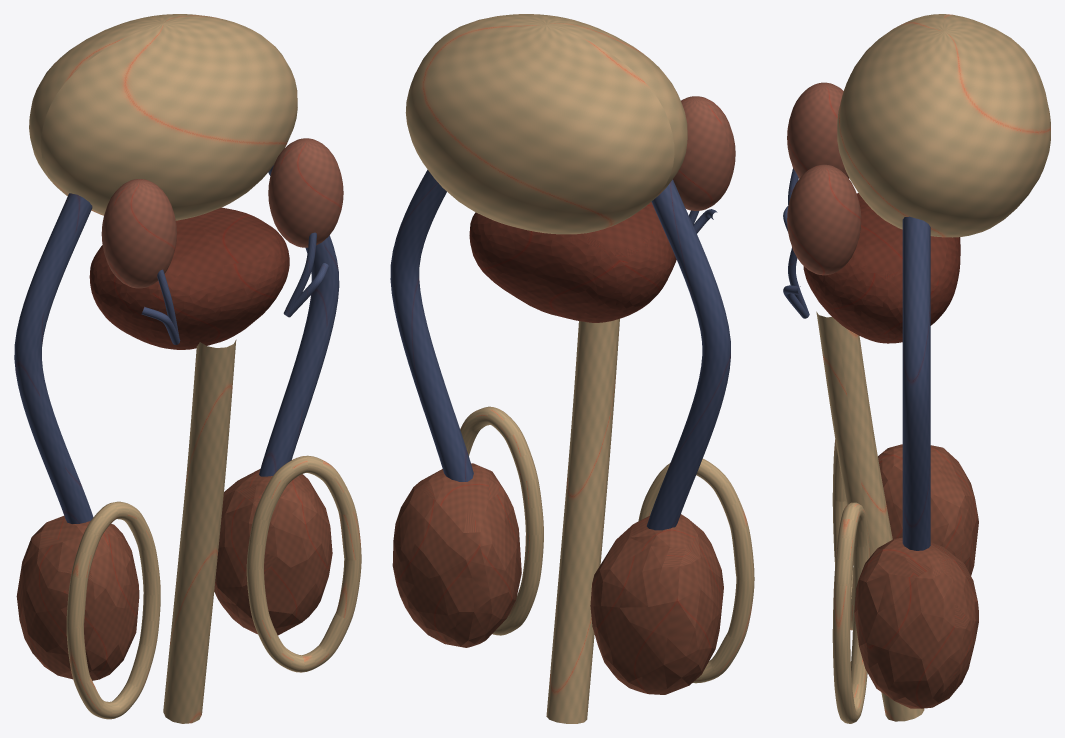
Rendered from male-reproductive.89e0dc0a.glb.
3 renders of one model, left to right at view 1: azimuth 30°, elevation 25°; view 2: azimuth 150°, elevation 25°; view 3: azimuth 270°, elevation 25°, orthographic. The views are drawn at different scales.
Visible parts, largest first — view 1: procedural-male-reproductive-surface-1, Prostate, procedural-male-reproductive-surface-6, Right testis, Left testis, procedural-male-reproductive-surface-2, procedural-male-reproductive-surface-10, procedural-male-reproductive-surface-7, procedural-male-reproductive-surface-4, procedural-male-reproductive-surface-5, procedural-male-reproductive-surface-3, procedural-male-reproductive-surface-12; view 2: procedural-male-reproductive-surface-1, Right testis, Left testis, procedural-male-reproductive-surface-6, Prostate, procedural-male-reproductive-surface-2, procedural-male-reproductive-surface-3, procedural-male-reproductive-surface-10, procedural-male-reproductive-surface-4, procedural-male-reproductive-surface-7; view 3: procedural-male-reproductive-surface-1, Left testis, Prostate, procedural-male-reproductive-surface-3, procedural-male-reproductive-surface-6, procedural-male-reproductive-surface-5, Right testis, procedural-male-reproductive-surface-10, procedural-male-reproductive-surface-4, procedural-male-reproductive-surface-7.
Boxes of the visible parts, x1,y1,x2,y2 form: procedural-male-reproductive-surface-1: (29, 14, 297, 220); Prostate: (89, 207, 289, 349); procedural-male-reproductive-surface-6: (163, 339, 236, 723); Right testis: (16, 516, 139, 680); Left testis: (214, 469, 332, 635); procedural-male-reproductive-surface-2: (14, 193, 93, 523); procedural-male-reproductive-surface-10: (246, 455, 361, 672); procedural-male-reproductive-surface-7: (66, 501, 160, 719); procedural-male-reproductive-surface-4: (101, 179, 176, 288); procedural-male-reproductive-surface-5: (268, 138, 343, 247); procedural-male-reproductive-surface-3: (259, 165, 339, 476); procedural-male-reproductive-surface-12: (283, 232, 316, 315); procedural-male-reproductive-surface-1: (405, 14, 687, 234); Right testis: (590, 514, 723, 694); Left testis: (392, 463, 521, 647); procedural-male-reproductive-surface-6: (546, 318, 619, 723); Prostate: (469, 202, 676, 322); procedural-male-reproductive-surface-2: (647, 179, 730, 530); procedural-male-reproductive-surface-3: (390, 169, 473, 481); procedural-male-reproductive-surface-10: (460, 406, 543, 635); procedural-male-reproductive-surface-4: (673, 96, 735, 210); procedural-male-reproductive-surface-7: (638, 459, 754, 683); procedural-male-reproductive-surface-1: (837, 14, 1050, 237); Left testis: (854, 537, 978, 708); Prostate: (803, 193, 960, 343); procedural-male-reproductive-surface-3: (902, 216, 930, 550); procedural-male-reproductive-surface-6: (816, 311, 924, 721); procedural-male-reproductive-surface-5: (787, 164, 861, 275); Right testis: (878, 444, 978, 575); procedural-male-reproductive-surface-10: (832, 502, 870, 723); procedural-male-reproductive-surface-4: (787, 82, 849, 178); procedural-male-reproductive-surface-7: (832, 439, 853, 630).
Size of the model in its own units: 1.62 by 3.27 by 1.16.
Materials: 6 (6 with a texture image).
